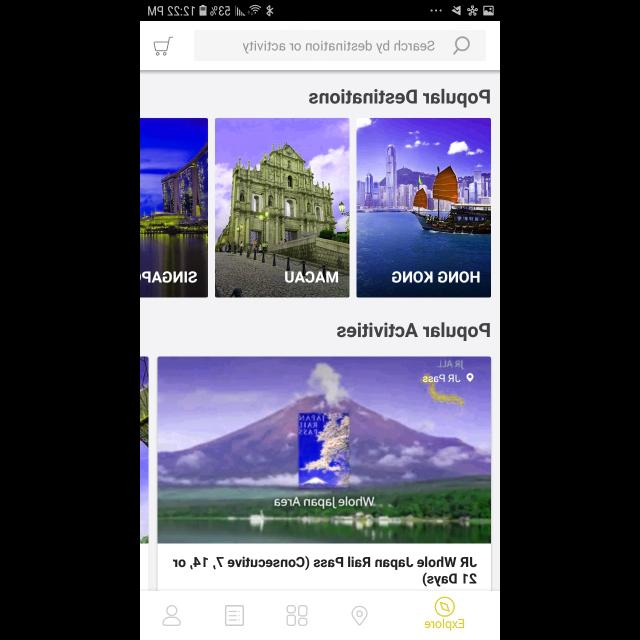icon: (286, 604, 308, 626), (162, 604, 182, 626), (434, 596, 454, 616), (224, 606, 243, 626), (452, 36, 470, 56), (154, 38, 172, 56), (351, 606, 367, 626), (466, 373, 472, 382)
image: (158, 356, 490, 544), (215, 118, 349, 298), (356, 119, 490, 298), (140, 118, 208, 298), (140, 356, 148, 544)
input: (194, 30, 486, 61)
text: (173, 556, 477, 588), (308, 90, 490, 108), (336, 322, 489, 342), (242, 40, 434, 54), (274, 495, 374, 509), (392, 271, 480, 283), (140, 272, 197, 284), (284, 272, 338, 282), (424, 618, 464, 630), (422, 374, 460, 382)
uppertaskbar: (140, 1, 500, 22)
